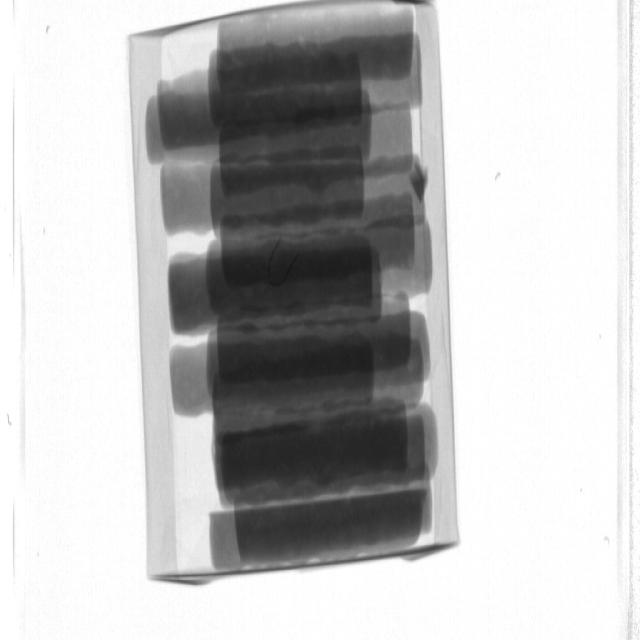ym: (267, 241, 299, 289), (411, 152, 430, 202)
